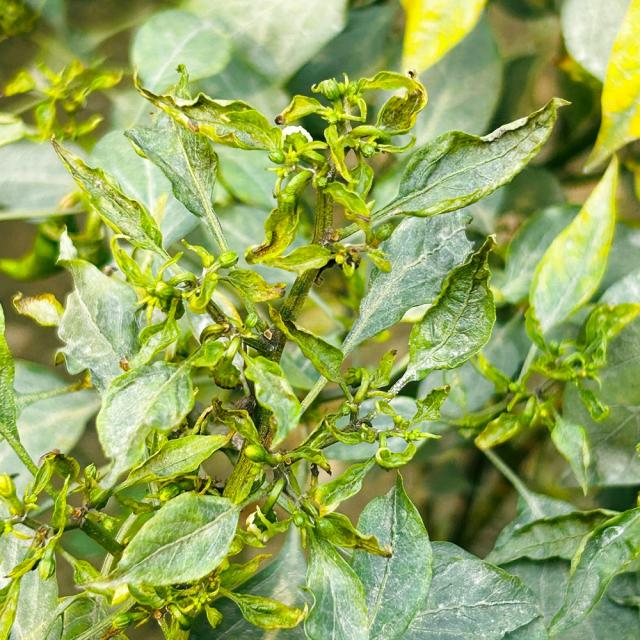Chilli_Leaf_Curl: (1, 2, 638, 638), (366, 95, 572, 232), (382, 232, 498, 398), (49, 136, 171, 262)
